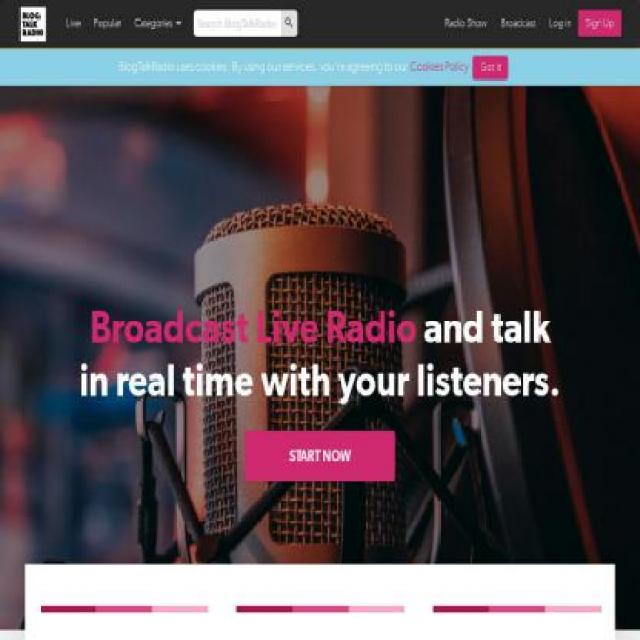button: (244, 430, 396, 481), (128, 4, 188, 42), (438, 4, 494, 42), (6, 5, 60, 43), (494, 4, 543, 42), (86, 4, 128, 42), (542, 4, 578, 42), (578, 9, 622, 37), (59, 4, 87, 42), (472, 55, 508, 79)
field: (194, 9, 280, 37)
